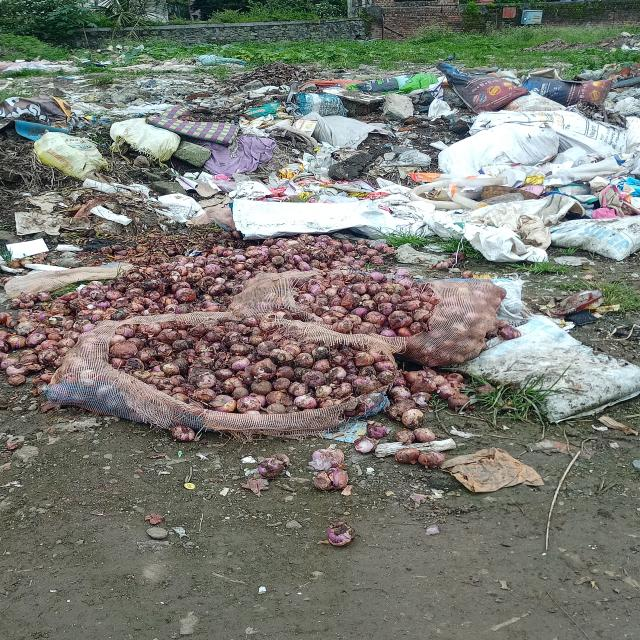garbage: (1, 57, 640, 433)
